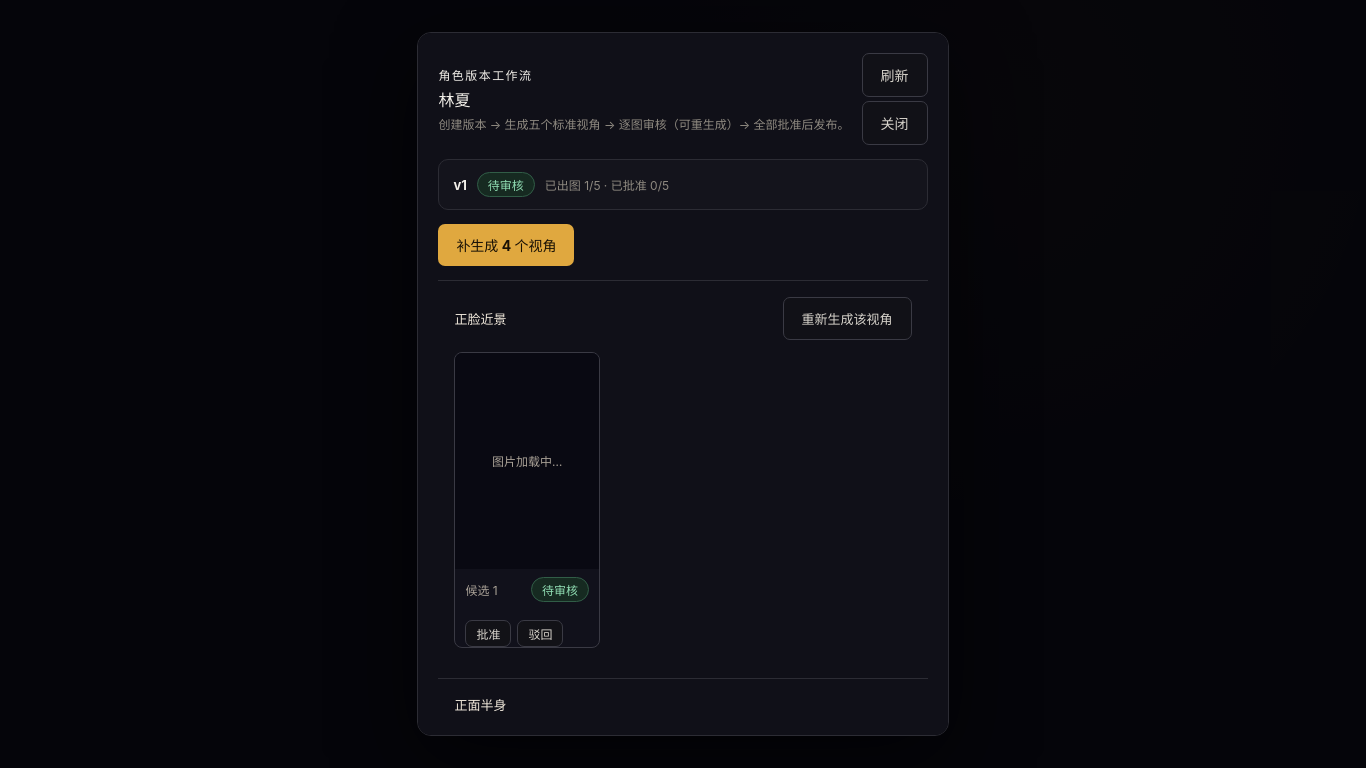
Test: CharacterVersionDialog › 批准候选后刷新展示已批准状态
The width and height of the screenshot is (1366, 768).
Click the button "批准" at (488, 633), box [465,620,511,647]
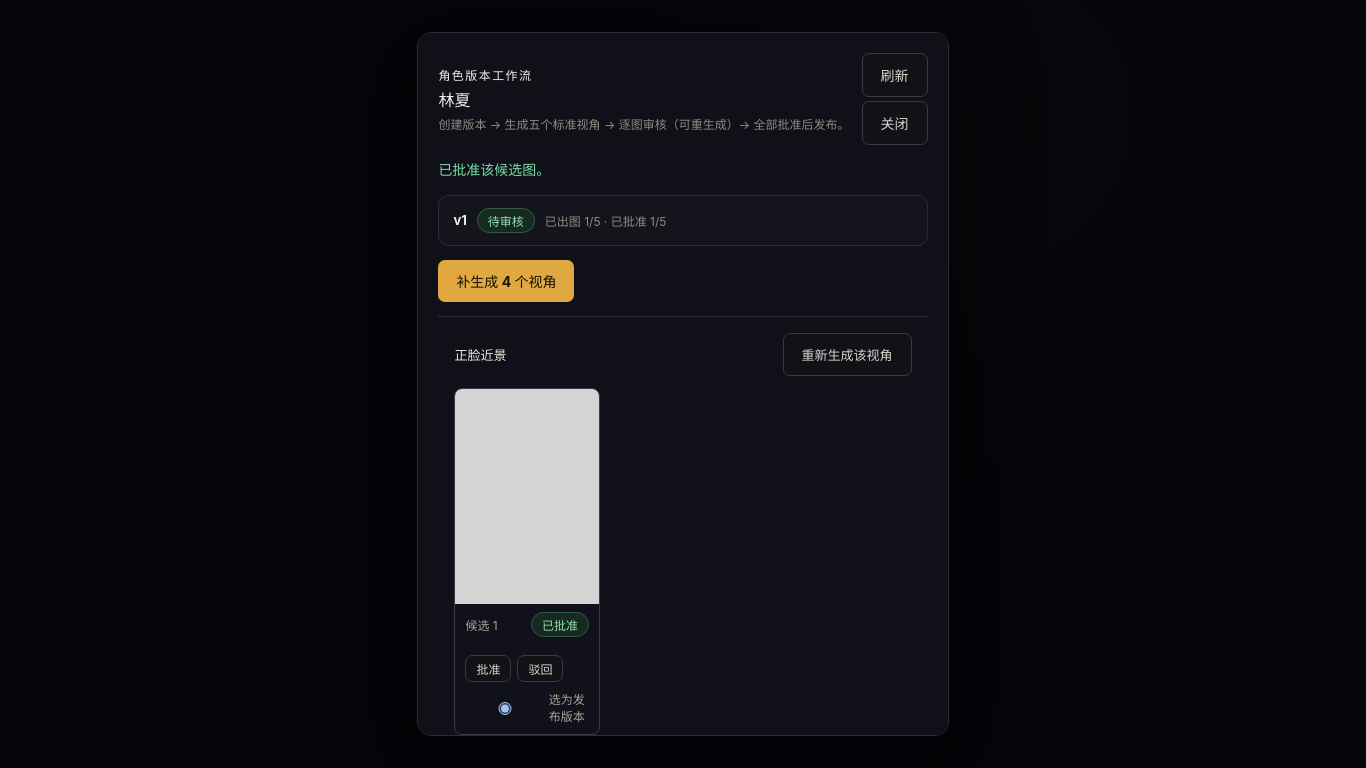
Check: the text "已批准" is shown, box [531,612,589,637]
